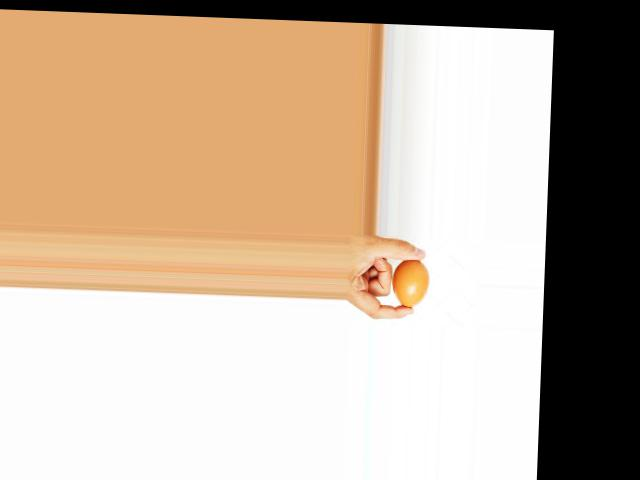egg: (391, 258, 431, 308)
